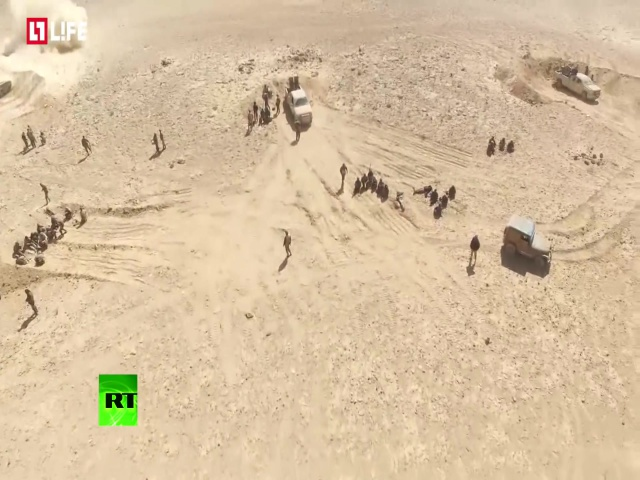person: (23, 287, 41, 319), (467, 235, 481, 267), (281, 229, 294, 262), (78, 134, 93, 160), (37, 179, 51, 206), (338, 160, 348, 191), (25, 127, 37, 148), (76, 206, 88, 225), (151, 132, 160, 155), (19, 131, 29, 151), (158, 129, 167, 151), (293, 119, 301, 142), (353, 177, 362, 196), (252, 101, 259, 124), (274, 94, 281, 116), (377, 177, 384, 198), (247, 109, 253, 133), (360, 173, 367, 193), (38, 130, 45, 144)
vehicle: (498, 217, 554, 268), (554, 61, 603, 105), (283, 75, 315, 125)
